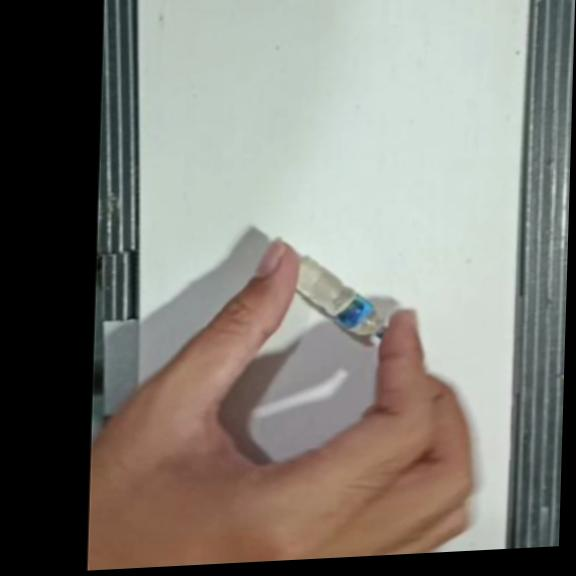Plastik: (293, 252, 392, 342)
